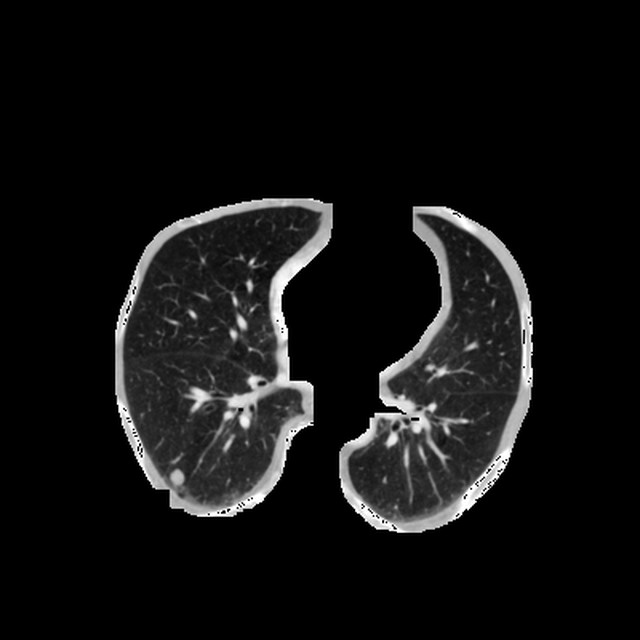PN: (170, 470, 182, 483)
